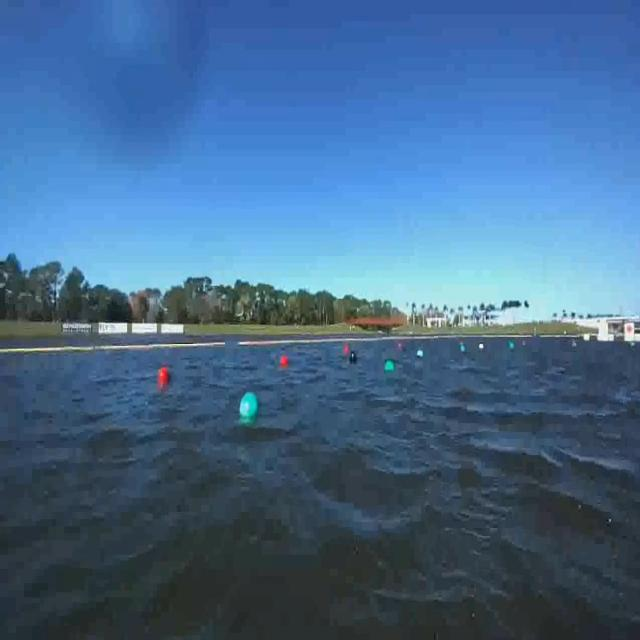blue-buoy: (349, 350, 360, 370)
green-buoy: (241, 393, 260, 421), (386, 359, 394, 372)
red-buoy: (281, 355, 289, 368)
red-column-buoy: (158, 366, 169, 385)
